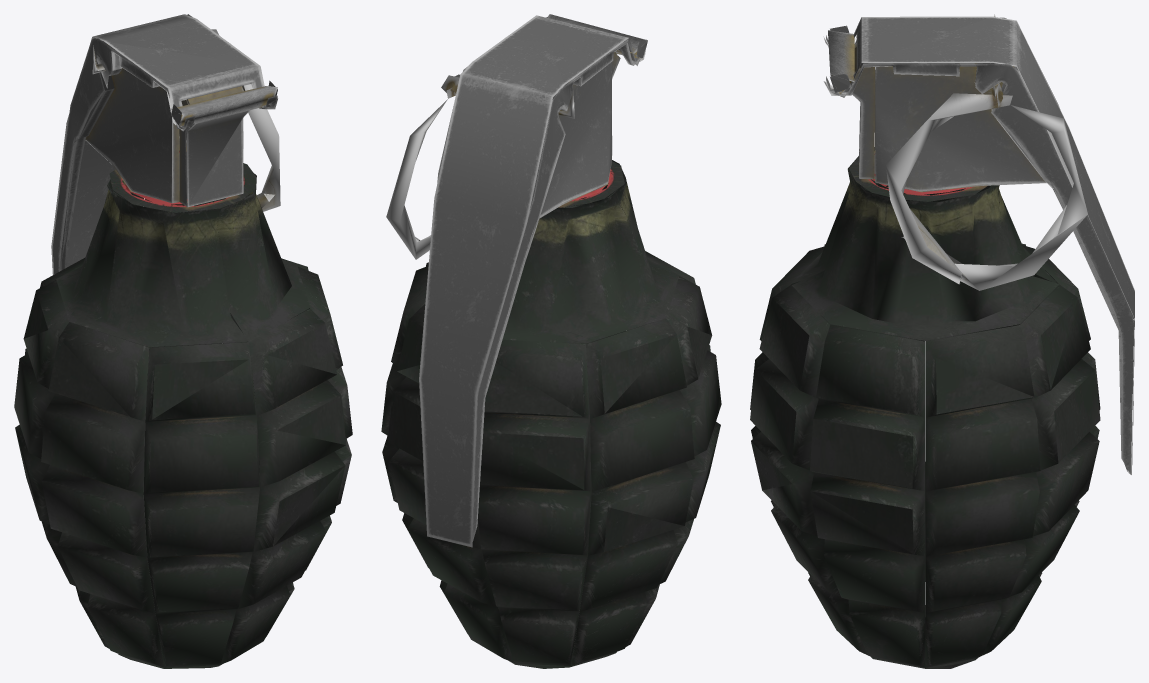
File: hand_granade.glb
3 renders of one model, left to right at view 1: azimuth 30°, elevation 25°; view 2: azimuth 150°, elevation 25°; view 3: azimuth 270°, elevation 25°, orthographic. The views are drawn at different scales.
Visible parts, largest first — view 1: hand_granade_mesh; view 2: hand_granade_mesh; view 3: hand_granade_mesh.
Part boxes in pixels (x1,y1,x2,y2): hand_granade_mesh: (14, 14, 352, 668); hand_granade_mesh: (381, 14, 721, 668); hand_granade_mesh: (750, 14, 1134, 668).
Size of the model in its own units: 0.0779 by 0.15 by 0.0856.
3 materials, 3 textured.
